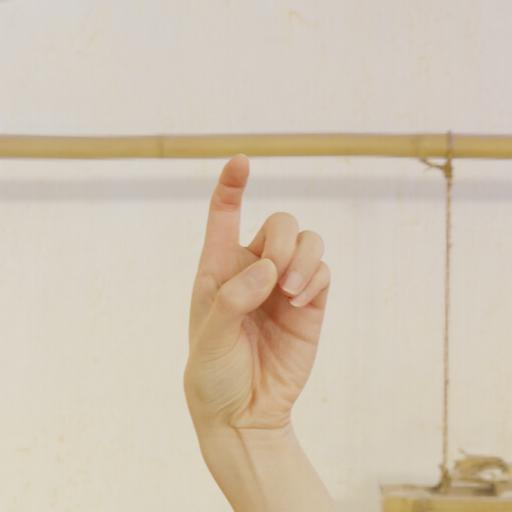X: (146, 128, 382, 490)
